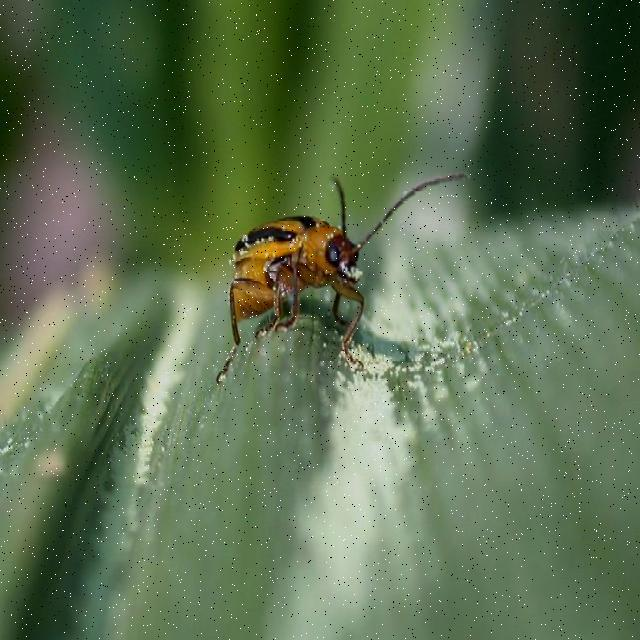trips: (220, 164, 472, 358)
